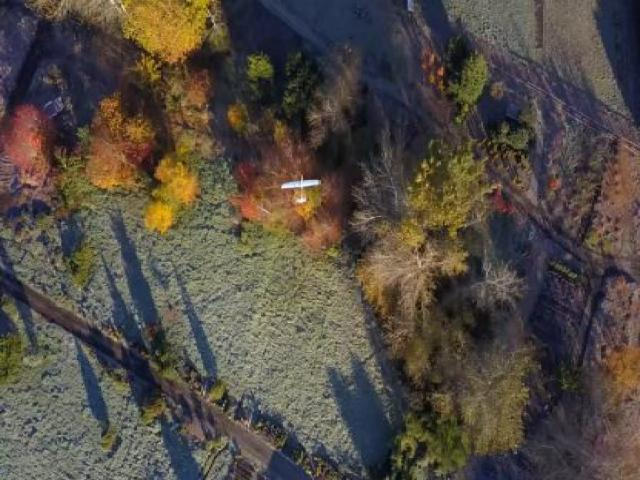uav: (274, 159, 329, 210)
